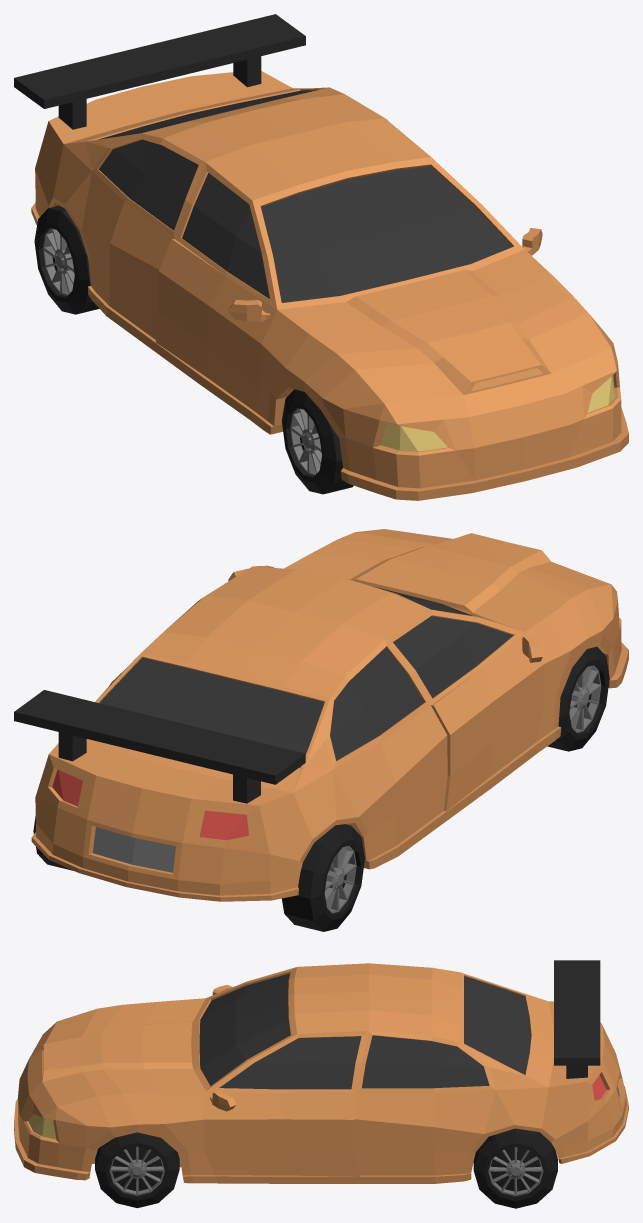
The model's file is Car1.glb.
3 views of the same model, one above another, from view 1: azimuth 30°, elevation 25°; view 2: azimuth 150°, elevation 25°; view 3: azimuth 270°, elevation 25° (orthographic). The views are drawn at different scales.
Visible parts, largest first — view 1: SportsCar, Spoiler_wing, SportsCar_BackWheels, SportsCar_FrontRightWheel, Spoile_Support_L, Spoile_Support_R; view 2: SportsCar, Spoiler_wing, SportsCar_BackWheels, SportsCar_FrontRightWheel, Spoile_Support_L, Spoile_Support_R; view 3: SportsCar, SportsCar_BackWheels, SportsCar_FrontLeftWheel, Spoiler_wing.
Part boxes in pixels (left/top/right/bottom): SportsCar: left=31, top=71, right=628, bottom=500; Spoiler_wing: left=14, top=14, right=305, bottom=108; SportsCar_BackWheels: left=34, top=205, right=99, bottom=314; SportsCar_FrontRightWheel: left=281, top=389, right=353, bottom=494; Spoile_Support_L: left=233, top=56, right=261, bottom=87; Spoile_Support_R: left=58, top=99, right=86, bottom=129; SportsCar: left=31, top=529, right=628, bottom=901; Spoiler_wing: left=14, top=690, right=305, bottom=784; SportsCar_BackWheels: left=33, top=816, right=364, bottom=931; SportsCar_FrontRightWheel: left=547, top=646, right=609, bottom=751; Spoile_Support_L: left=58, top=732, right=86, bottom=761; Spoile_Support_R: left=233, top=774, right=260, bottom=803; SportsCar: left=14, top=963, right=628, bottom=1183; SportsCar_BackWheels: left=473, top=1128, right=557, bottom=1208; SportsCar_FrontLeftWheel: left=95, top=1132, right=179, bottom=1208; Spoiler_wing: left=554, top=960, right=600, bottom=1065.
Bounding box in the file's own units: 1.8 × 1.17 × 3.97.
